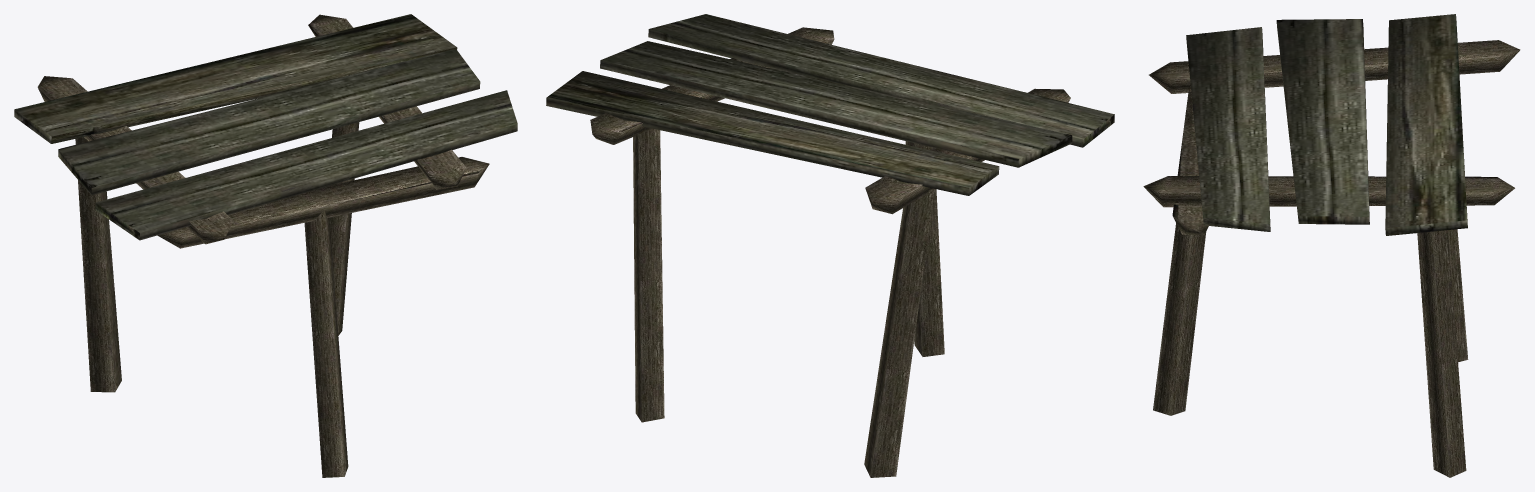
File: MIN_LOB_COVER_4X7M.glb
3 renders of one model, left to right at view 1: azimuth 30°, elevation 25°; view 2: azimuth 150°, elevation 25°; view 3: azimuth 270°, elevation 25°, orthographic. The views are drawn at different scales.
Parts seen in each view (by area): view 1: Mesh; view 2: Mesh; view 3: Mesh.
Part boxes in pixels (<box>): Mesh: <box>14,14,517,477</box>; Mesh: <box>546,14,1114,477</box>; Mesh: <box>1143,14,1520,477</box>.
Bounding box in the file's own units: 7.61 × 5.25 × 5.8.
Materials: 2 (2 with a texture image).
